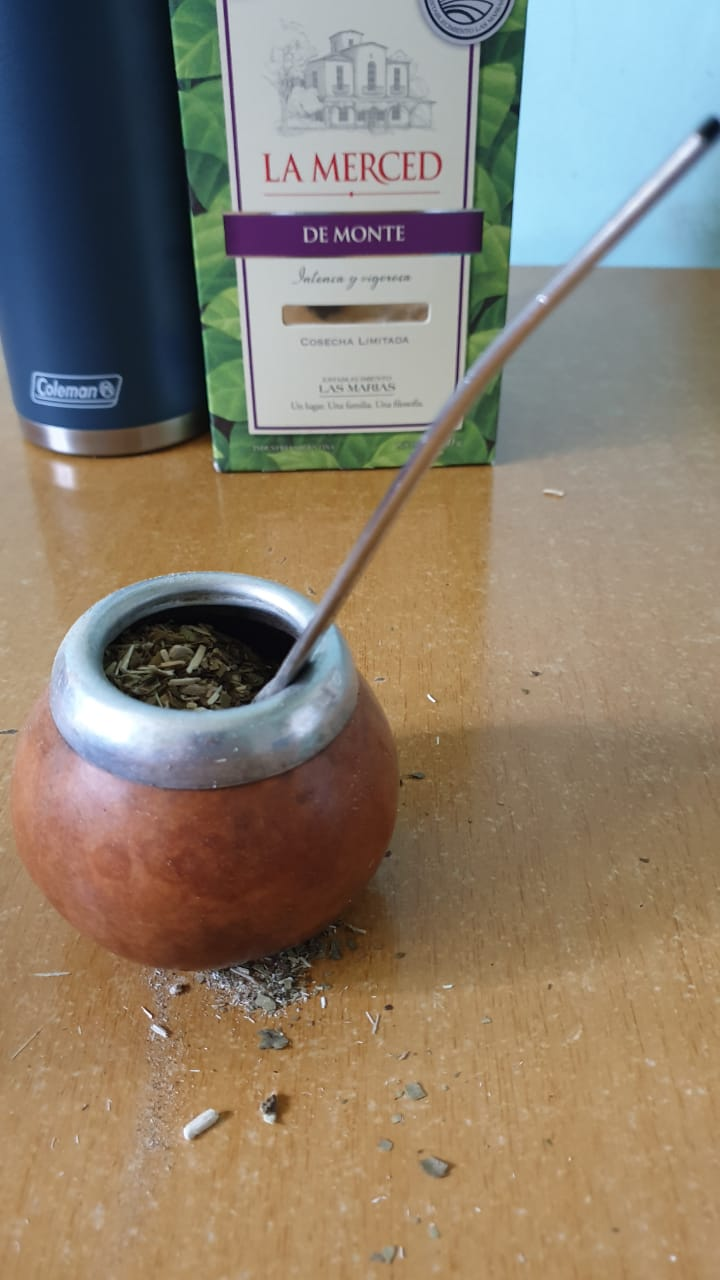calabaza: (10, 561, 412, 1007)
mate: (4, 542, 439, 1033)
